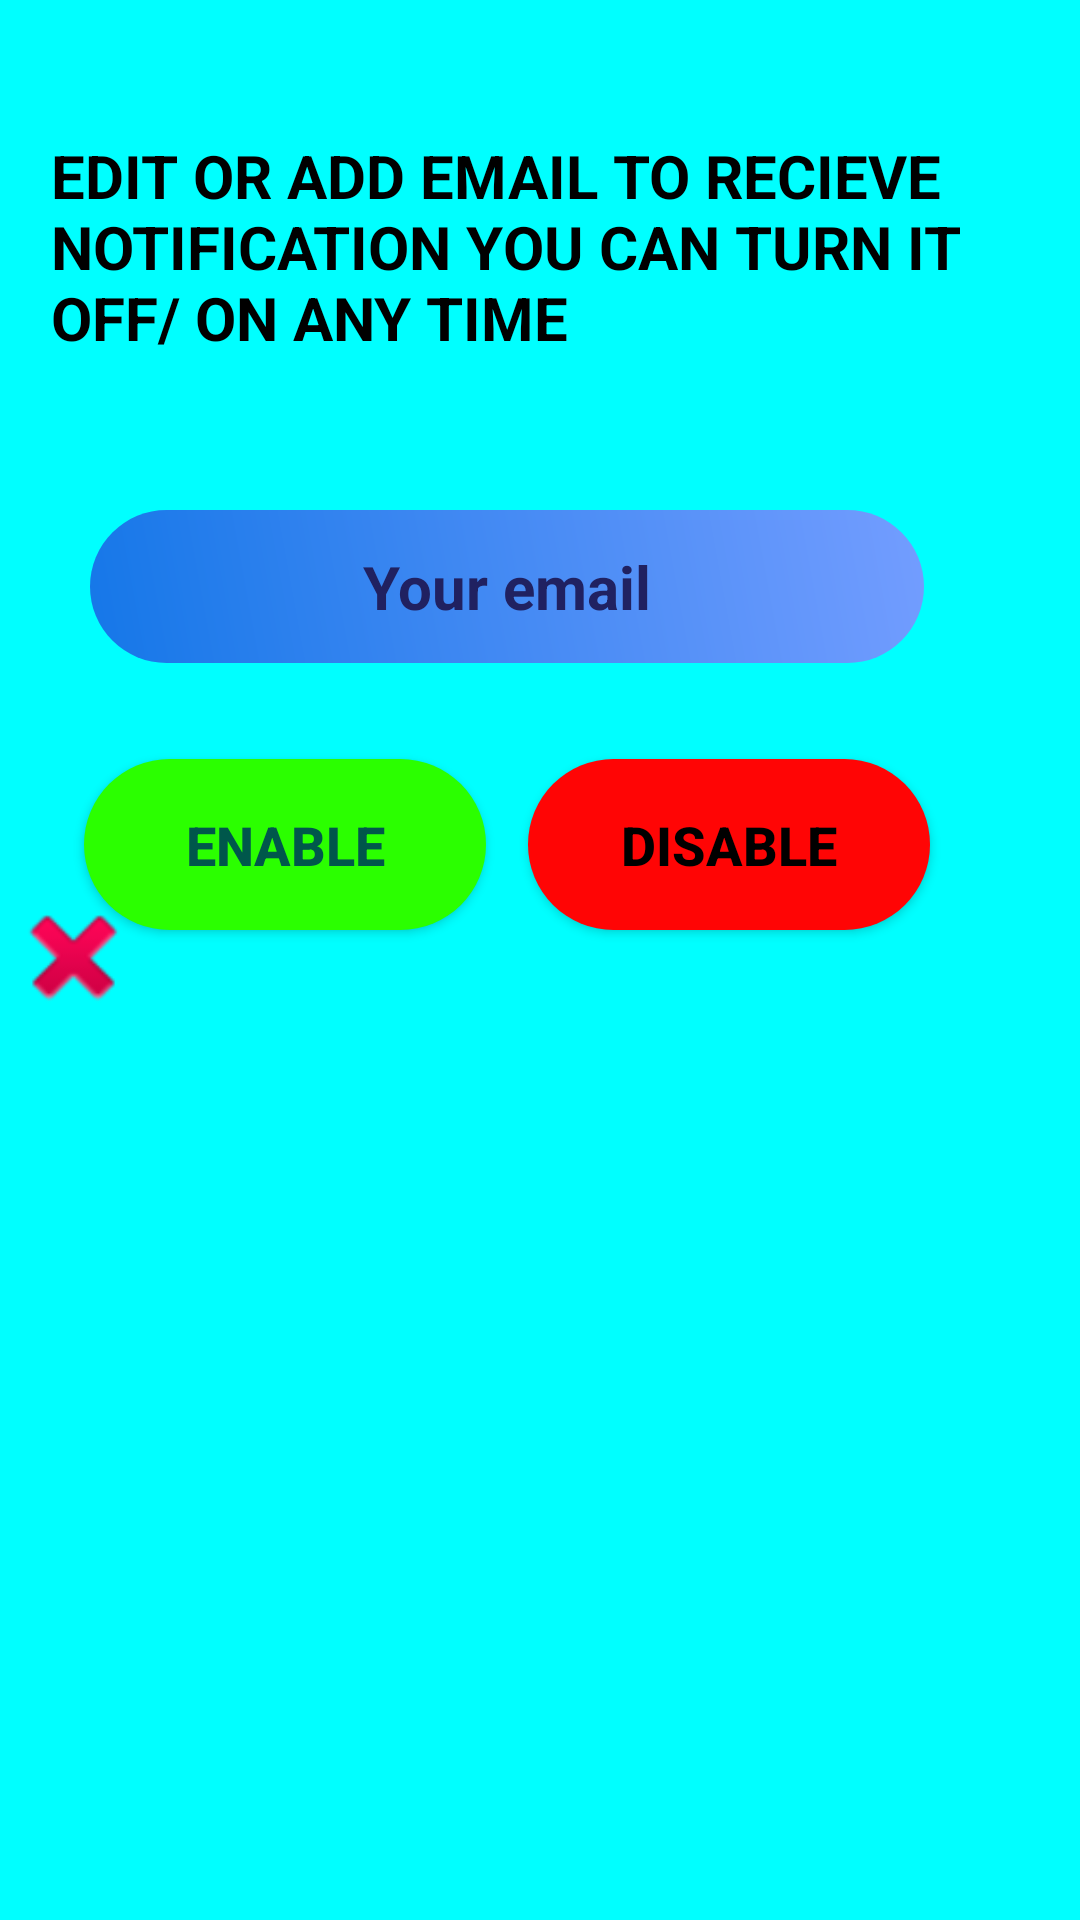

Icon bounding boxes for this 1080 x 1920 phone screenshot, format (x1, y1, x2, y2):
delete: (30, 915, 117, 1001)
